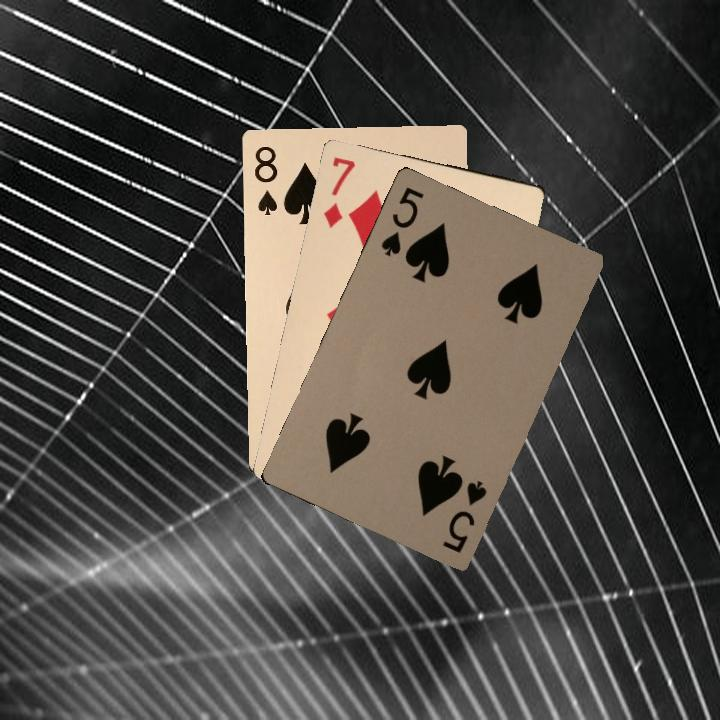5s: (438, 476, 490, 556), (377, 183, 426, 259)
7d: (319, 152, 358, 230)
8s: (250, 142, 280, 218)
